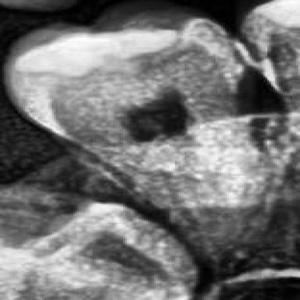tooth: (0, 3, 284, 234)
